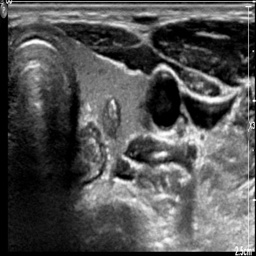mass: (102, 99, 122, 137)
